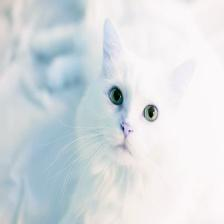kedo: (76, 18, 197, 167)
